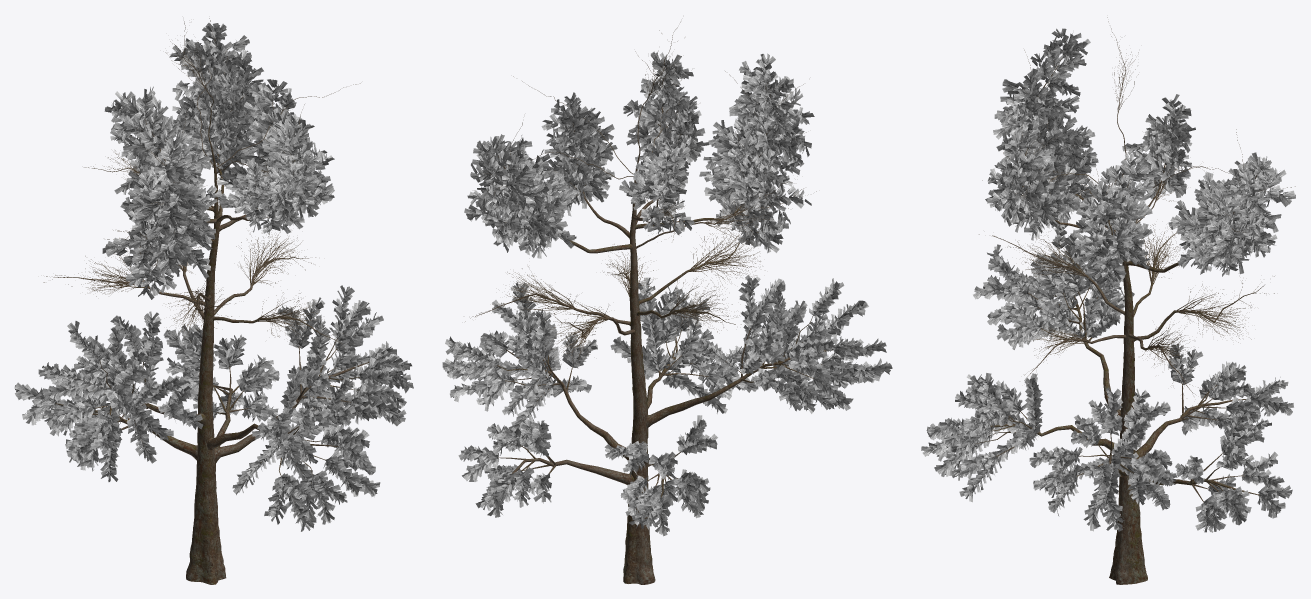
File: tree.glb
3 renders of one model, left to right at view 1: azimuth 30°, elevation 25°; view 2: azimuth 150°, elevation 25°; view 3: azimuth 270°, elevation 25°, orthographic. The views are drawn at different scales.
Parts seen in each view (by area): view 1: leaves_.001, bark; view 2: leaves_.001, bark; view 3: leaves_.001, bark.
Part boxes in pixels (<box>): leaves_.001: <box>14,23,413,531</box>; bark: <box>43,18,370,584</box>; leaves_.001: <box>442,50,892,536</box>; bark: <box>465,22,837,584</box>; leaves_.001: <box>921,28,1295,532</box>; bark: <box>959,17,1295,584</box>.
Size of the model in its own units: 5.52 by 7.93 by 4.93.
Materials: 2 (2 with a texture image).
